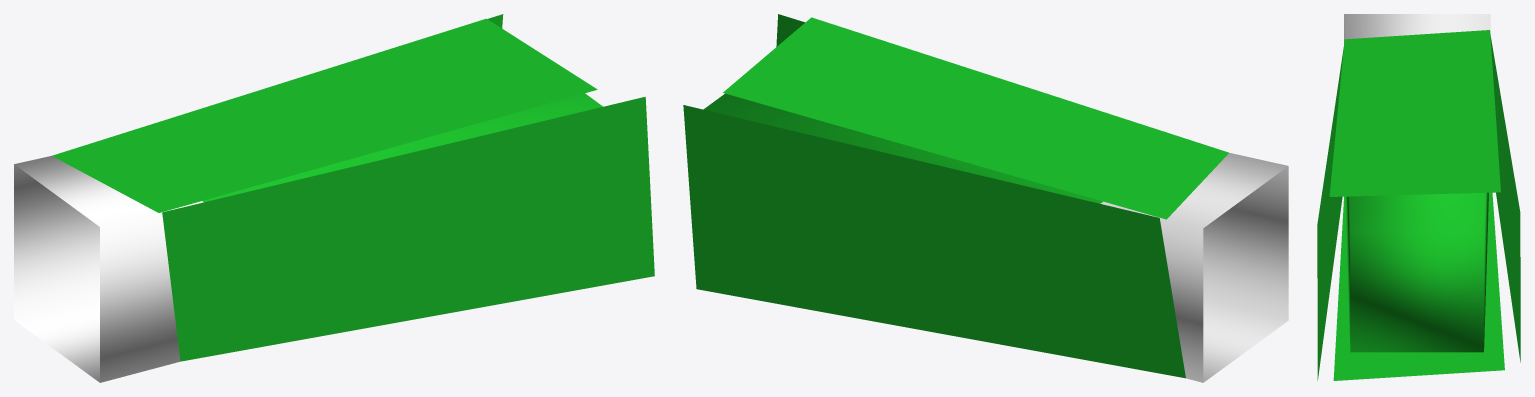
Rendered from leek003.fbx.
3 renders of one model, left to right at view 1: azimuth 30°, elevation 25°; view 2: azimuth 150°, elevation 25°; view 3: azimuth 270°, elevation 25°, orthographic. The views are drawn at different scales.
Parts seen in each view (by area): view 1: leek003; view 2: leek003; view 3: leek003.
Boxes of the visible parts, box(x1,y1,x2,y2) form: leek003: box(14, 14, 654, 382); leek003: box(683, 14, 1288, 382); leek003: box(1317, 14, 1520, 380).
Size of the model in its own units: 46.12 by 16.08 by 17.63.
